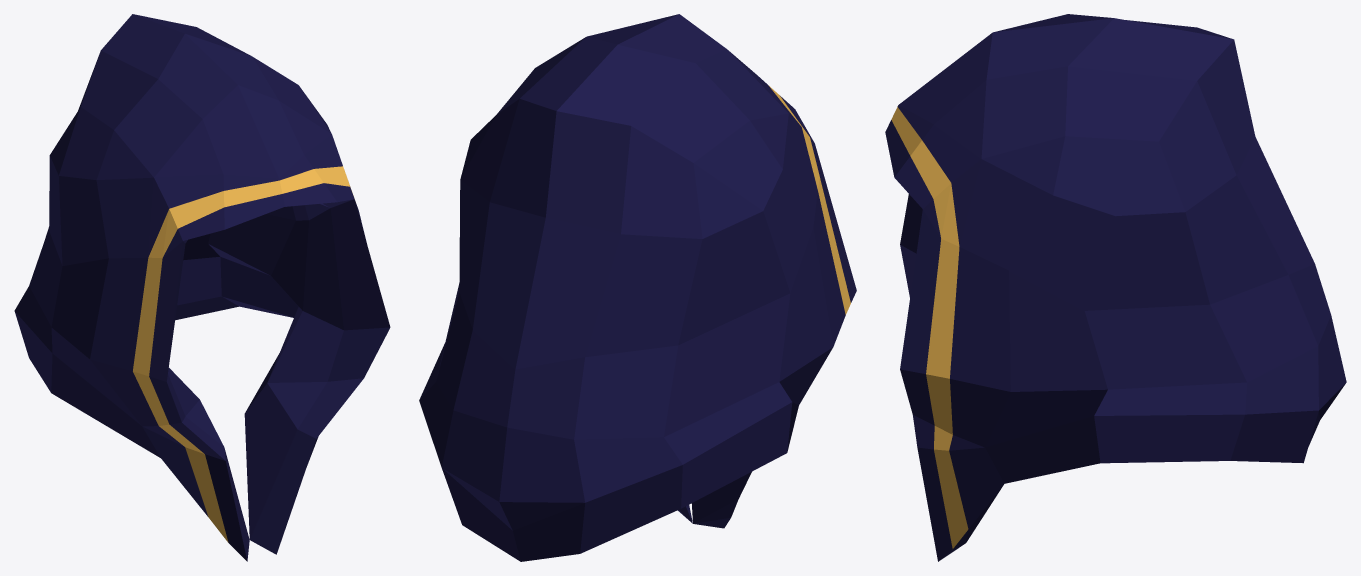
File: Hood_F_AD_010.fbx
The picture shows the model from 3 angles, left to right: view 1: azimuth 30°, elevation 25°; view 2: azimuth 150°, elevation 25°; view 3: azimuth 270°, elevation 25°; orthographic projection. The views are drawn at different scales.
Visible parts, largest first — view 1: Hood_F_AD_010; view 2: Hood_F_AD_010; view 3: Hood_F_AD_010.
Boxes of the visible parts, left/top/right/bottom form: Hood_F_AD_010: left=14, top=14, right=390, bottom=561; Hood_F_AD_010: left=419, top=14, right=856, bottom=561; Hood_F_AD_010: left=885, top=14, right=1346, bottom=561.
Size of the model in its own units: 0.304 by 0.4815 by 0.3759.
